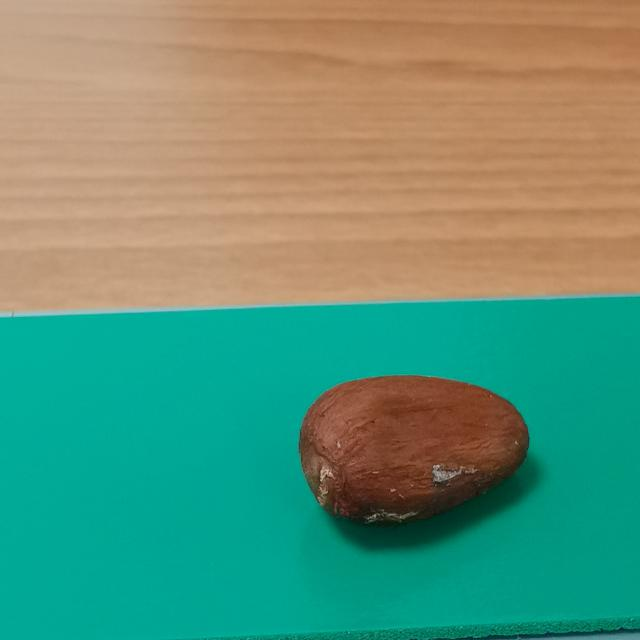Fine_cocoabeans: (202, 338, 612, 596)
